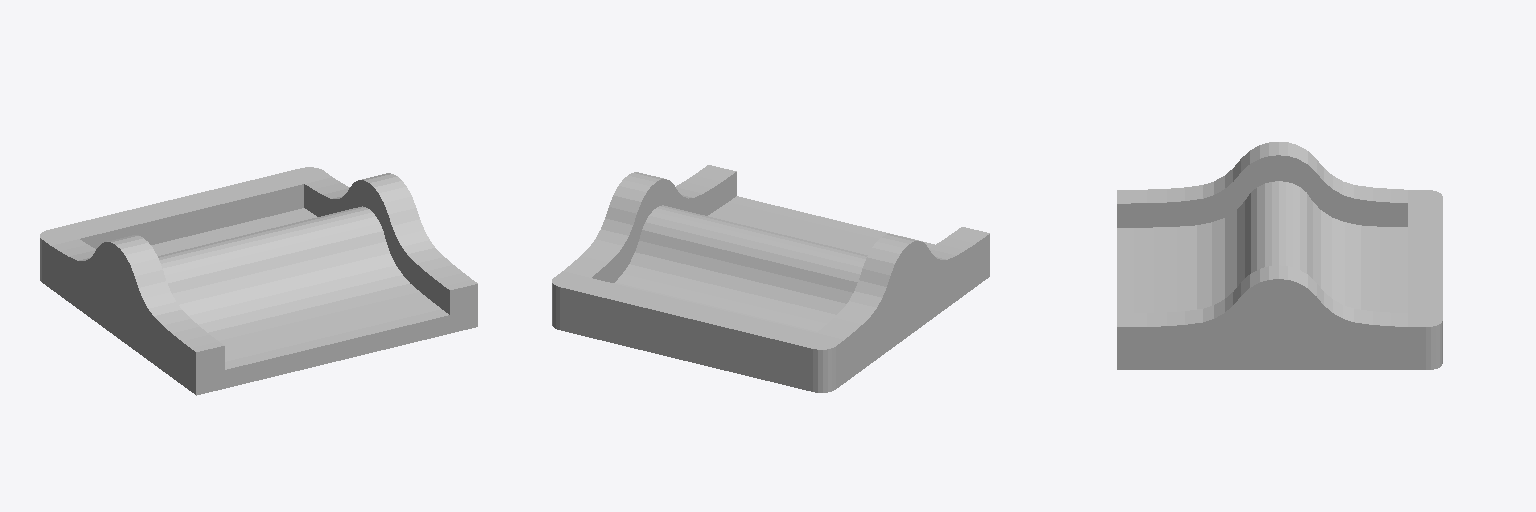
Rendered from smallSlopeEnd.obj.
3 renders of one model, left to right at view 1: azimuth 30°, elevation 25°; view 2: azimuth 150°, elevation 25°; view 3: azimuth 270°, elevation 25°, orthographic.
Visible parts, largest first — view 1: smallSlope2, modelPanel2ViewSelectedSet smallSlope2; view 2: smallSlope2, modelPanel2ViewSelectedSet smallSlope2; view 3: smallSlope2, modelPanel2ViewSelectedSet smallSlope2.
Part boxes in pixels (bbox=[...]): smallSlope2: bbox=[40, 172, 477, 395]; modelPanel2ViewSelectedSet smallSlope2: bbox=[40, 167, 340, 255]; smallSlope2: bbox=[552, 165, 989, 392]; modelPanel2ViewSelectedSet smallSlope2: bbox=[552, 264, 852, 349]; smallSlope2: bbox=[1117, 142, 1442, 369]; modelPanel2ViewSelectedSet smallSlope2: bbox=[1380, 189, 1442, 326].
Size of the model in its own units: 3 by 0.9307 by 3.